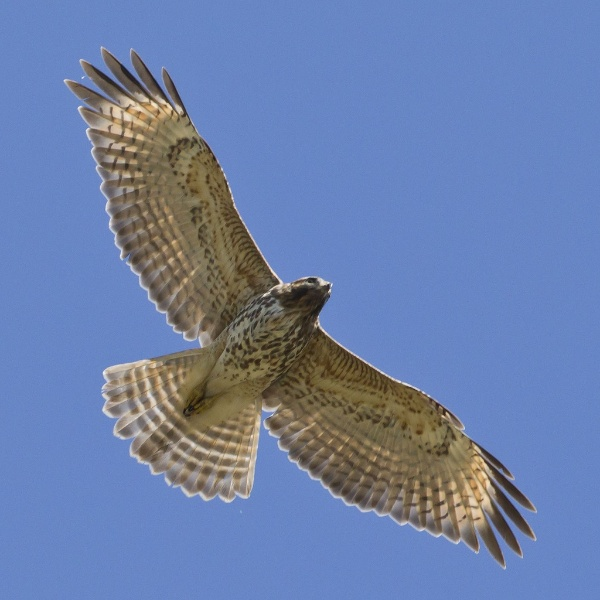bird: (64, 47, 541, 567)
